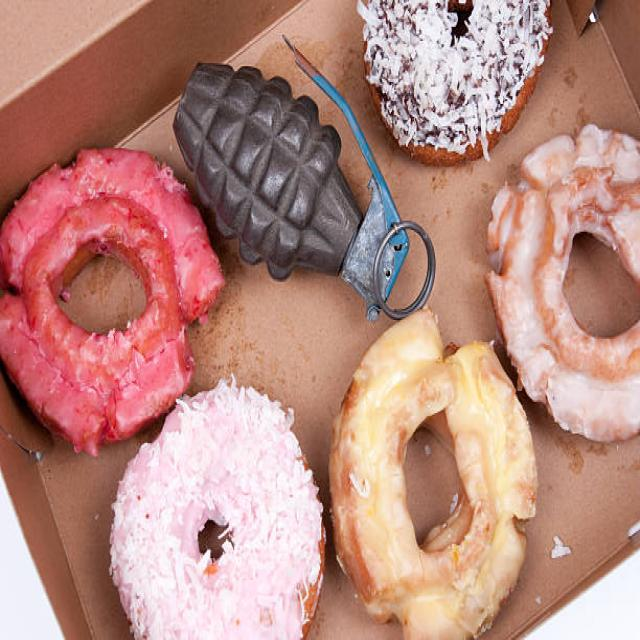grenade: (167, 30, 443, 331)
